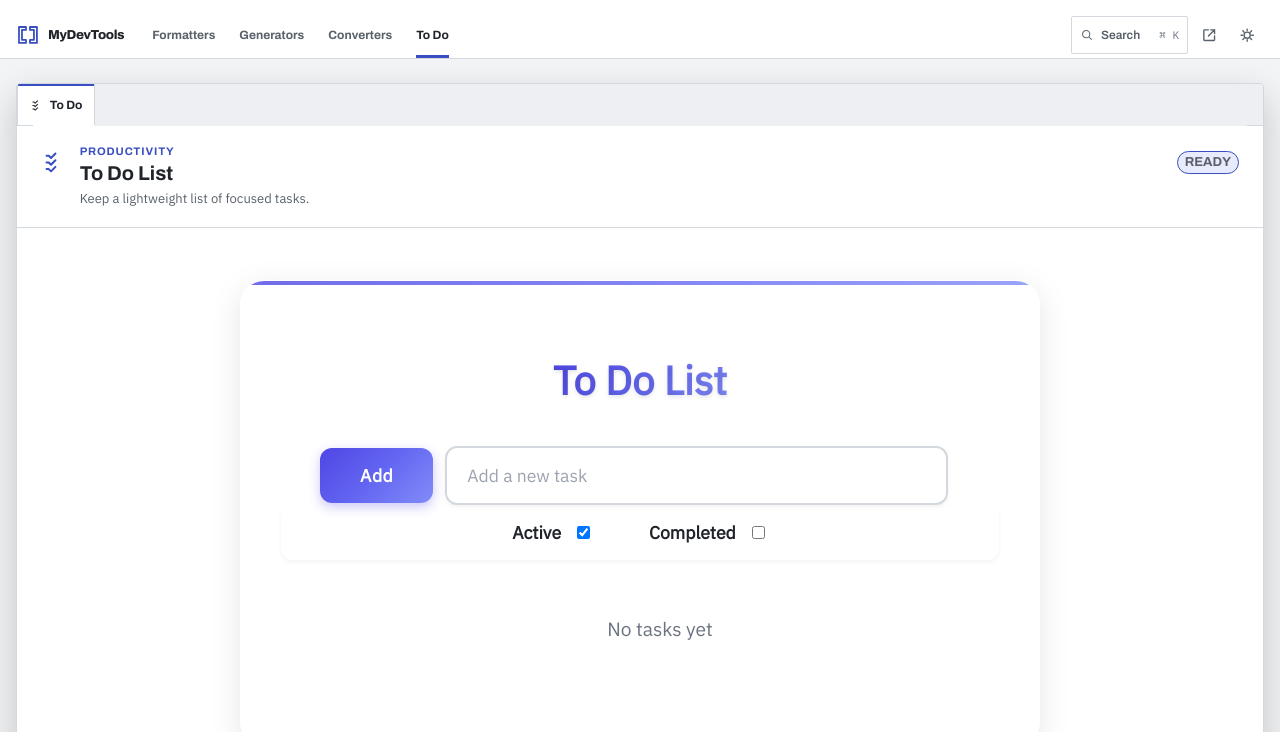
Test: To Do List Component › deletes completed tasks
This screenshot has width=1280, height=732.
Step 1. Type "Complete and Delete" into the field with test id "task-input" → (697, 476), box [445,446,948,505]
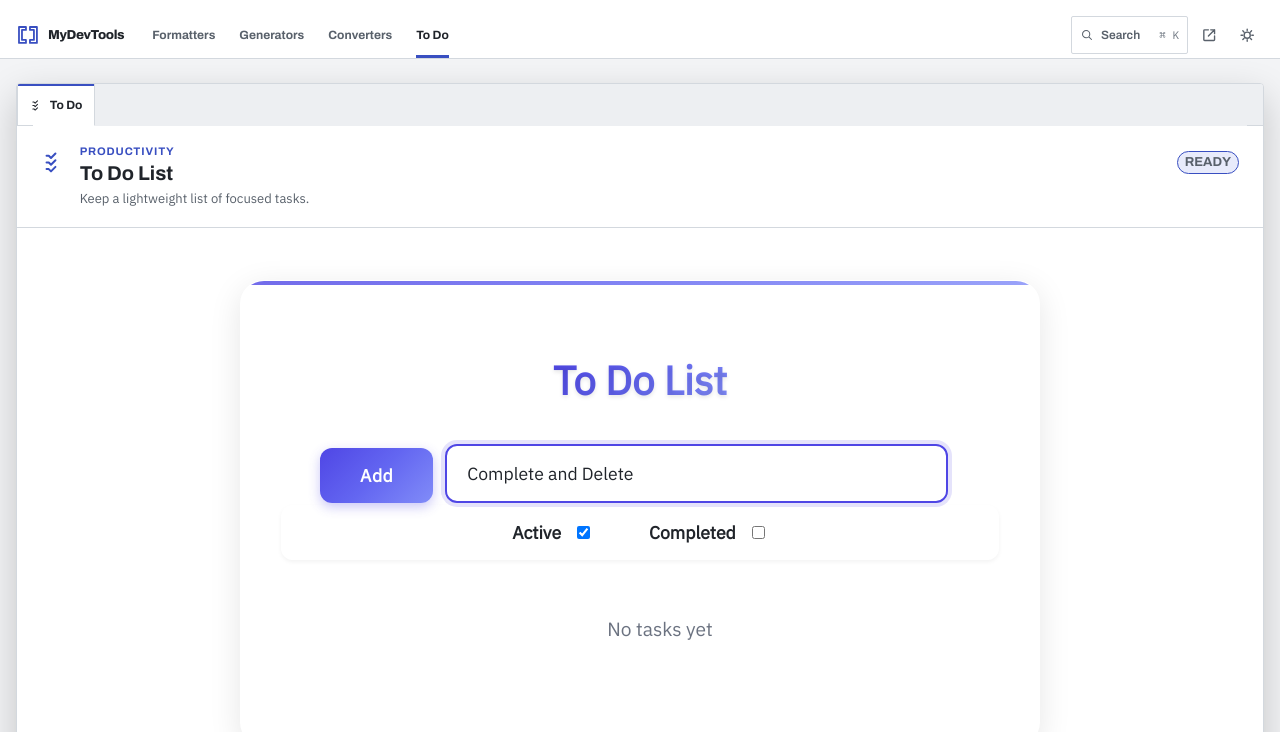
Step 2. Click the button with test id "add-btn" → (377, 476), box [320,448,433,503]
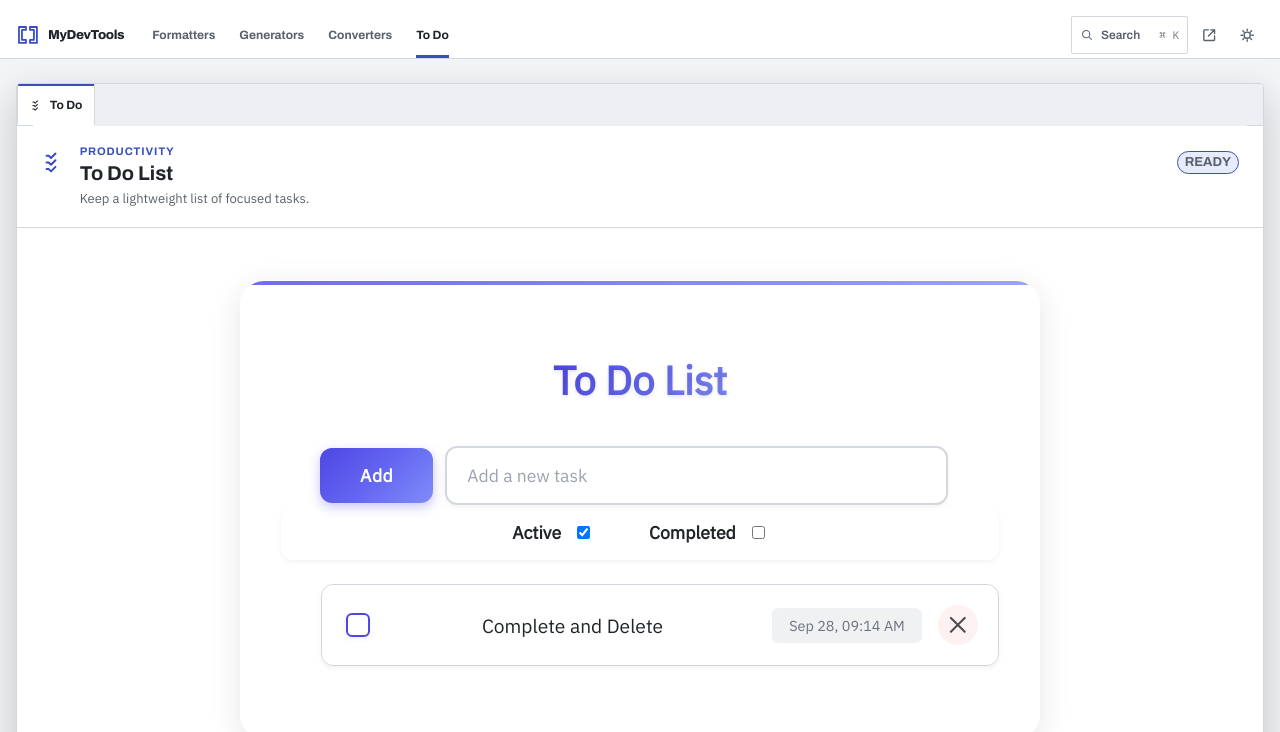
Step 3. Check the checkbox with test id "task-checkbox-" → (358, 625), box [346,613,370,637]
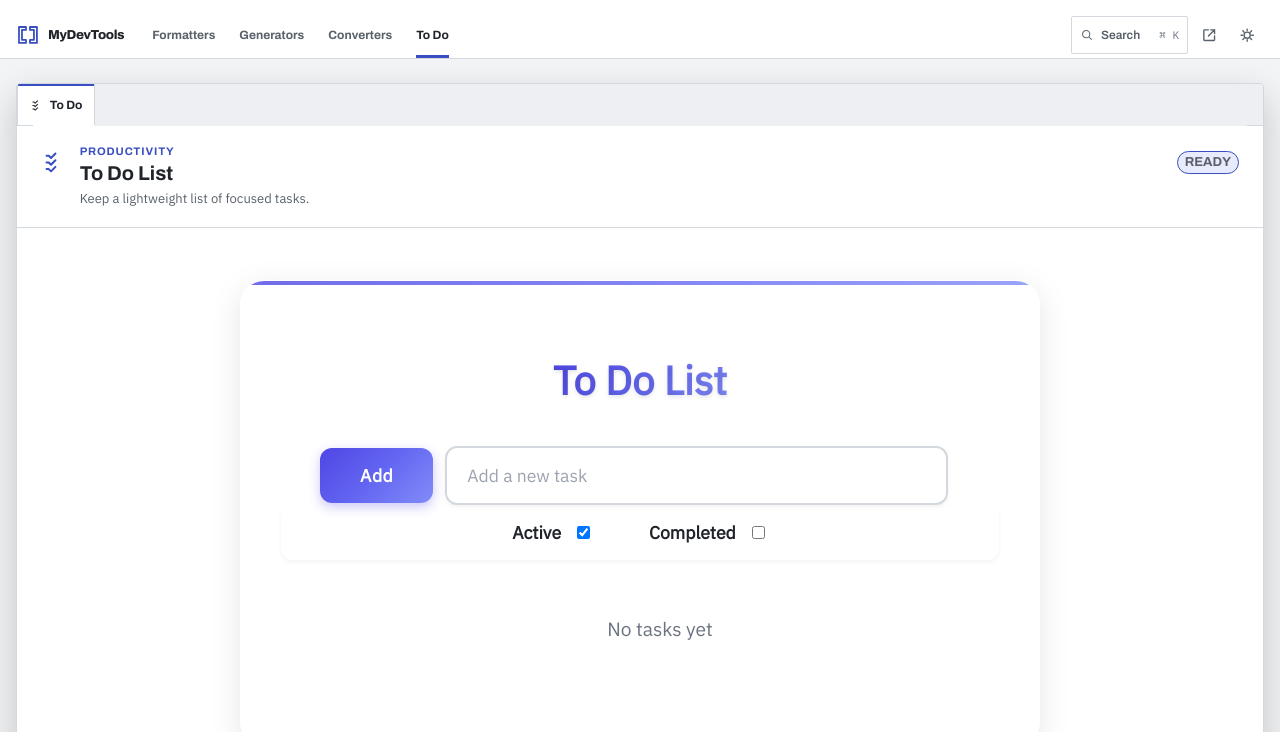
Step 4. Check the checkbox with test id "filter-completed-checkbox" → (759, 533), box [752,526,765,539]
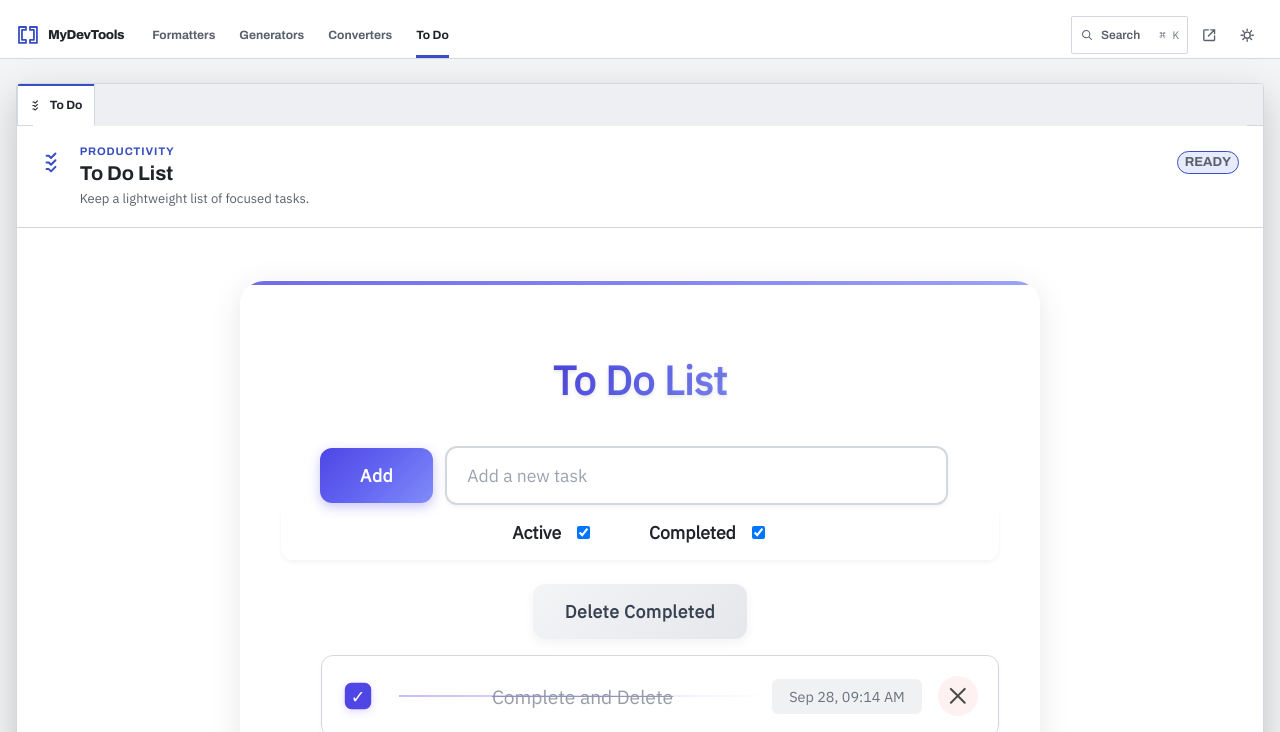
Step 5. Click the button with test id "delete-completed-btn" → (641, 612), box [533,584,748,639]
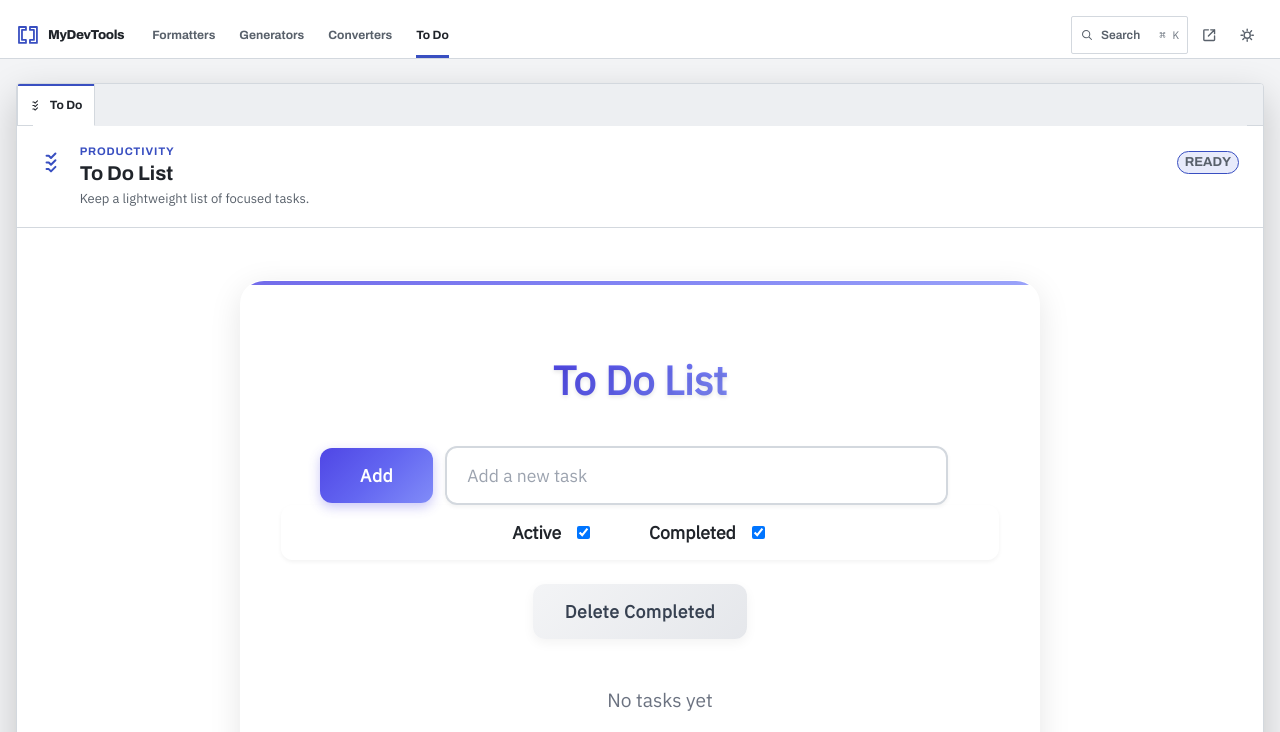
Result: the text with test id "task-list" no longer shows "Complete and Delete"
